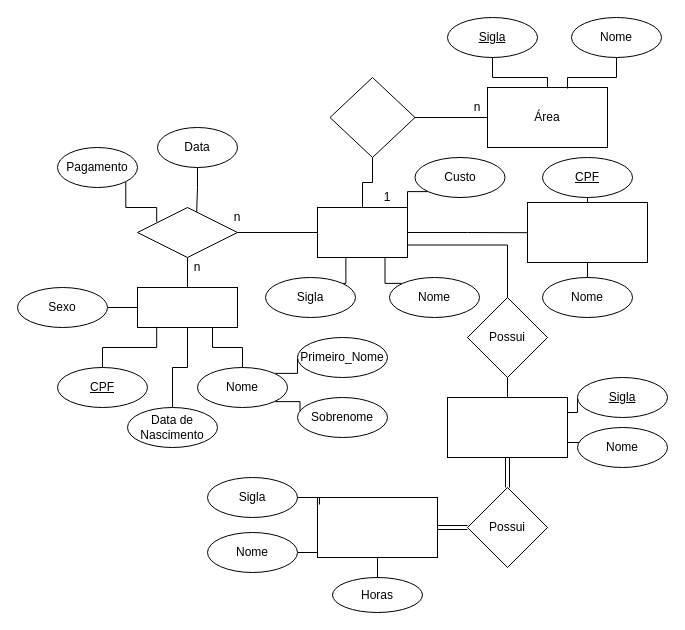
Image size: 685x630. Some labels were removed from this diagram. Each missing label, with the box of its shape:
Aluno: (136, 286, 238, 328)
Curso: (316, 206, 408, 258)
Matrícula: (136, 206, 238, 258)
Módulo: (446, 396, 568, 458)
Pertence: (329, 76, 415, 158)
Professores: (526, 202, 648, 262)
Tópico: (316, 496, 438, 558)
